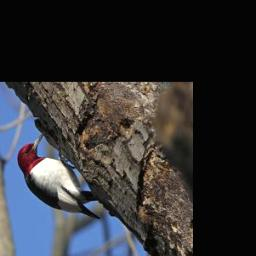Woodpecker: (12, 129, 106, 220)
